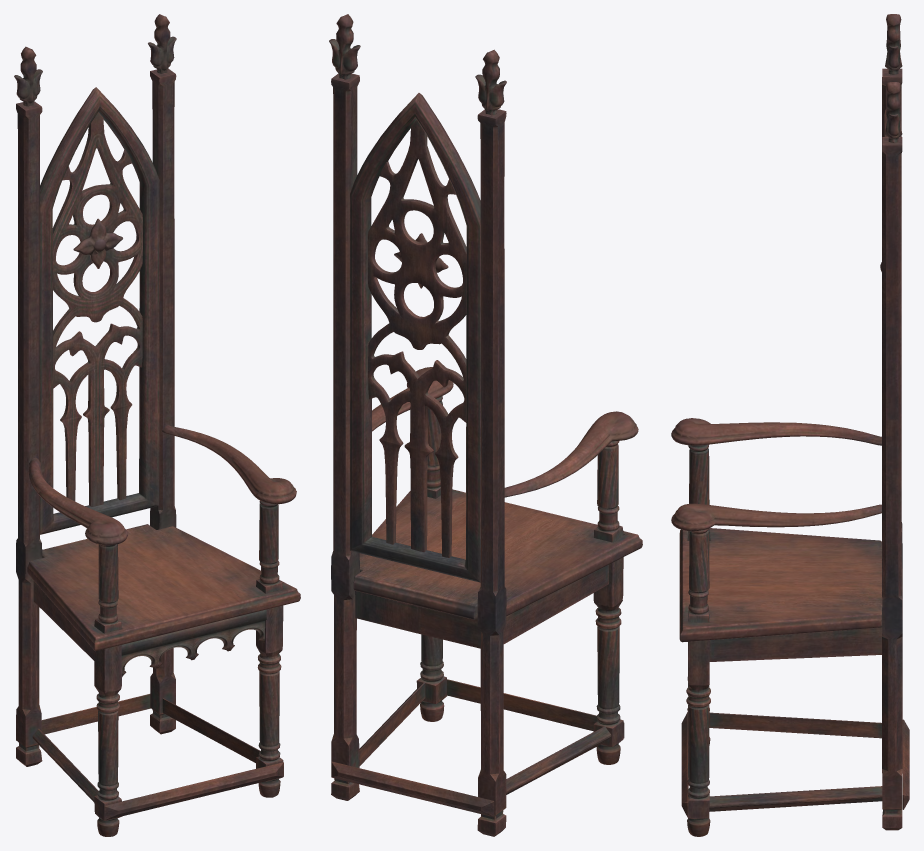
The model's file is WoodenChair_01.glb.
The picture shows the model from 3 angles, left to right: view 1: azimuth 30°, elevation 25°; view 2: azimuth 150°, elevation 25°; view 3: azimuth 270°, elevation 25°; orthographic projection. The views are drawn at different scales.
Visible parts, largest first — view 1: WoodenChair_01; view 2: WoodenChair_01; view 3: WoodenChair_01.
Part boxes in pixels (x1,y1,x2,y2): WoodenChair_01: [14, 14, 300, 836]; WoodenChair_01: [329, 14, 642, 836]; WoodenChair_01: [671, 14, 909, 836].
Bounding box in the file's own units: 0.6882 × 2.27 × 0.6585.
1 material, 1 textured.
